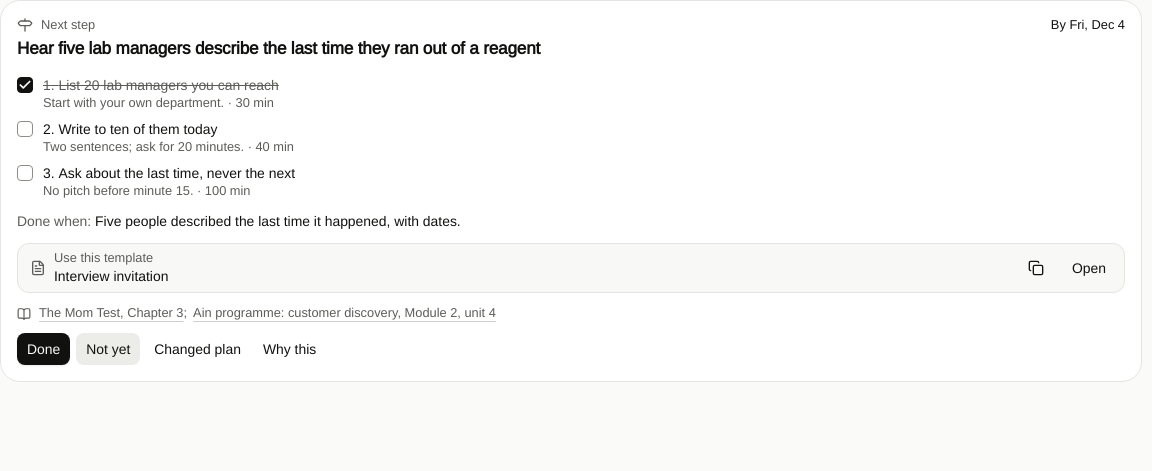
Scenario: StepCard › keeps the line the founder typed when it could not be saved
Click the button "Done" at (44, 349), box [17,333,70,365]
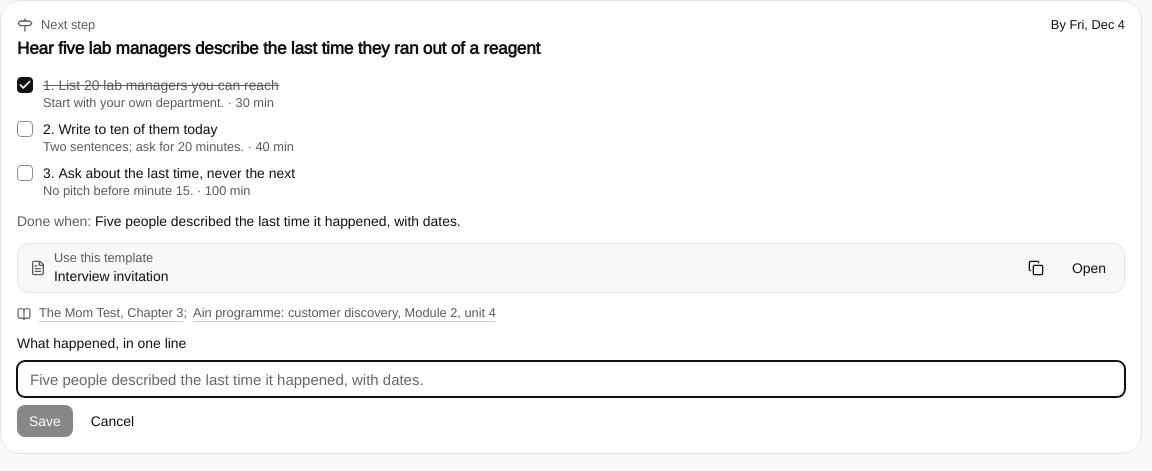
Type "Talked to five" into the field at (571, 379), box [17,361,1125,397]
Then press Enter
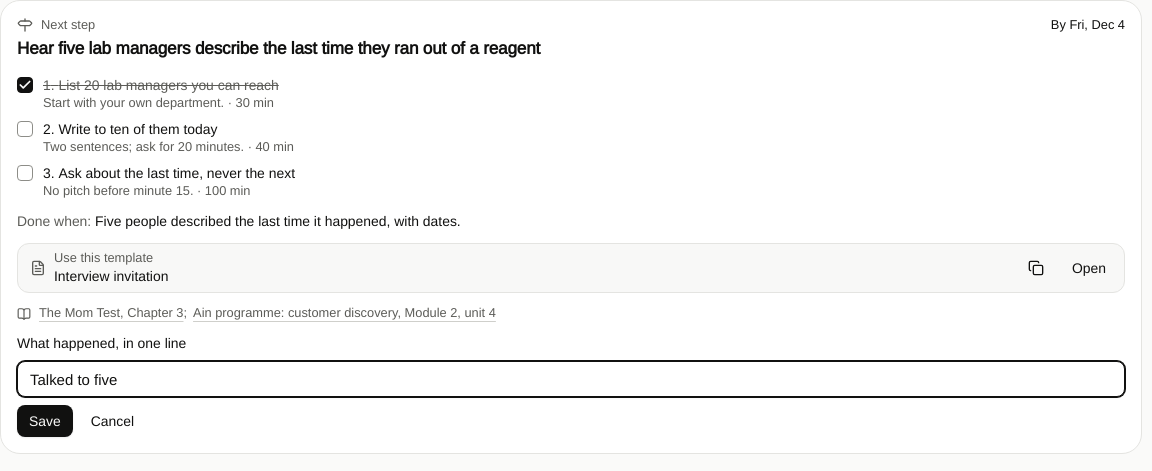
Check: the button "Save" is enabled, box [17,405,73,437]
